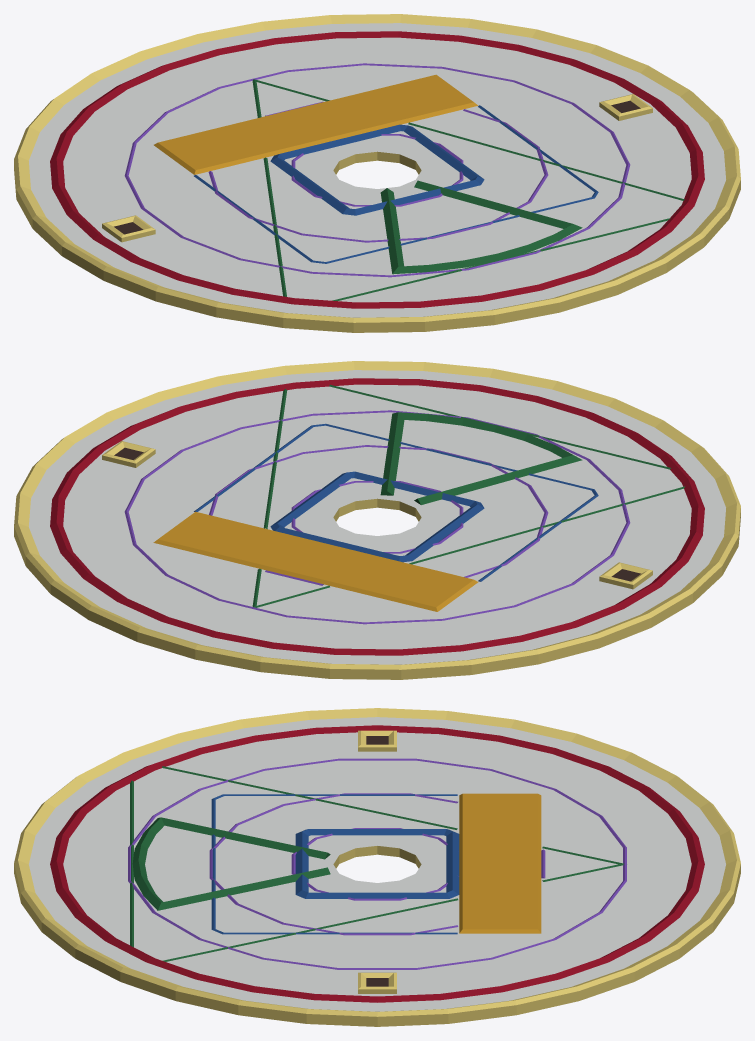
File: spell-area-template-b76082.glb
3 renders of one model, top to bottom at view 1: azimuth 30°, elevation 25°; view 2: azimuth 150°, elevation 25°; view 3: azimuth 270°, elevation 25°, orthographic.
Visible parts, largest first — view 1: acrylic, gold; view 2: acrylic, gold; view 3: acrylic, gold.
Part boxes in pixels (<box>): acrylic: <box>29,23,725,317</box>; gold: <box>14,14,740,332</box>; acrylic: <box>29,370,725,664</box>; gold: <box>14,361,740,679</box>; acrylic: <box>29,717,725,1011</box>; gold: <box>14,708,740,1026</box>.
Size of the model in its own units: 0.222 by 0.0049 by 0.222.
